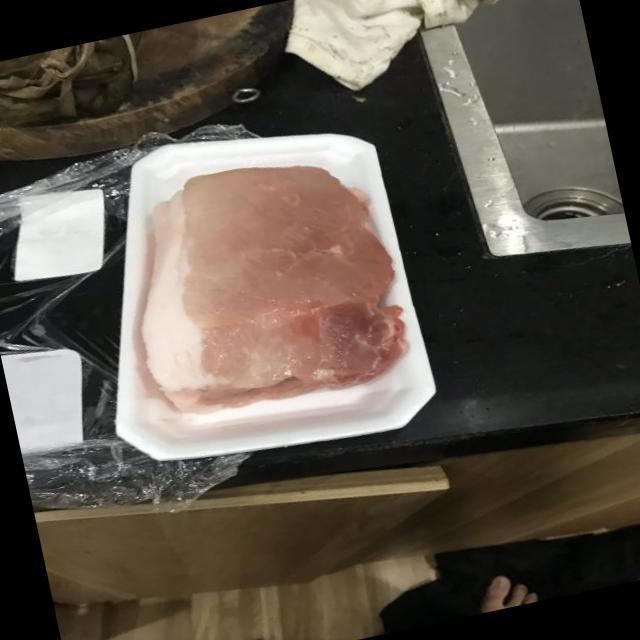chicken: (98, 138, 414, 428)
